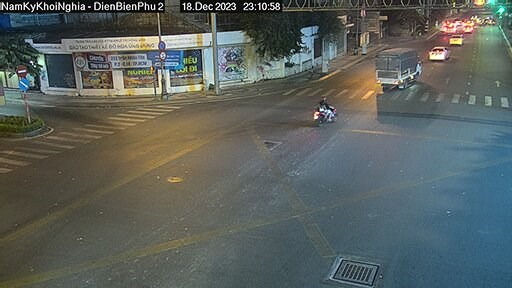car: (426, 42, 454, 61), (450, 32, 469, 48)
motorbike: (305, 92, 347, 124)
truck: (372, 47, 429, 93)
